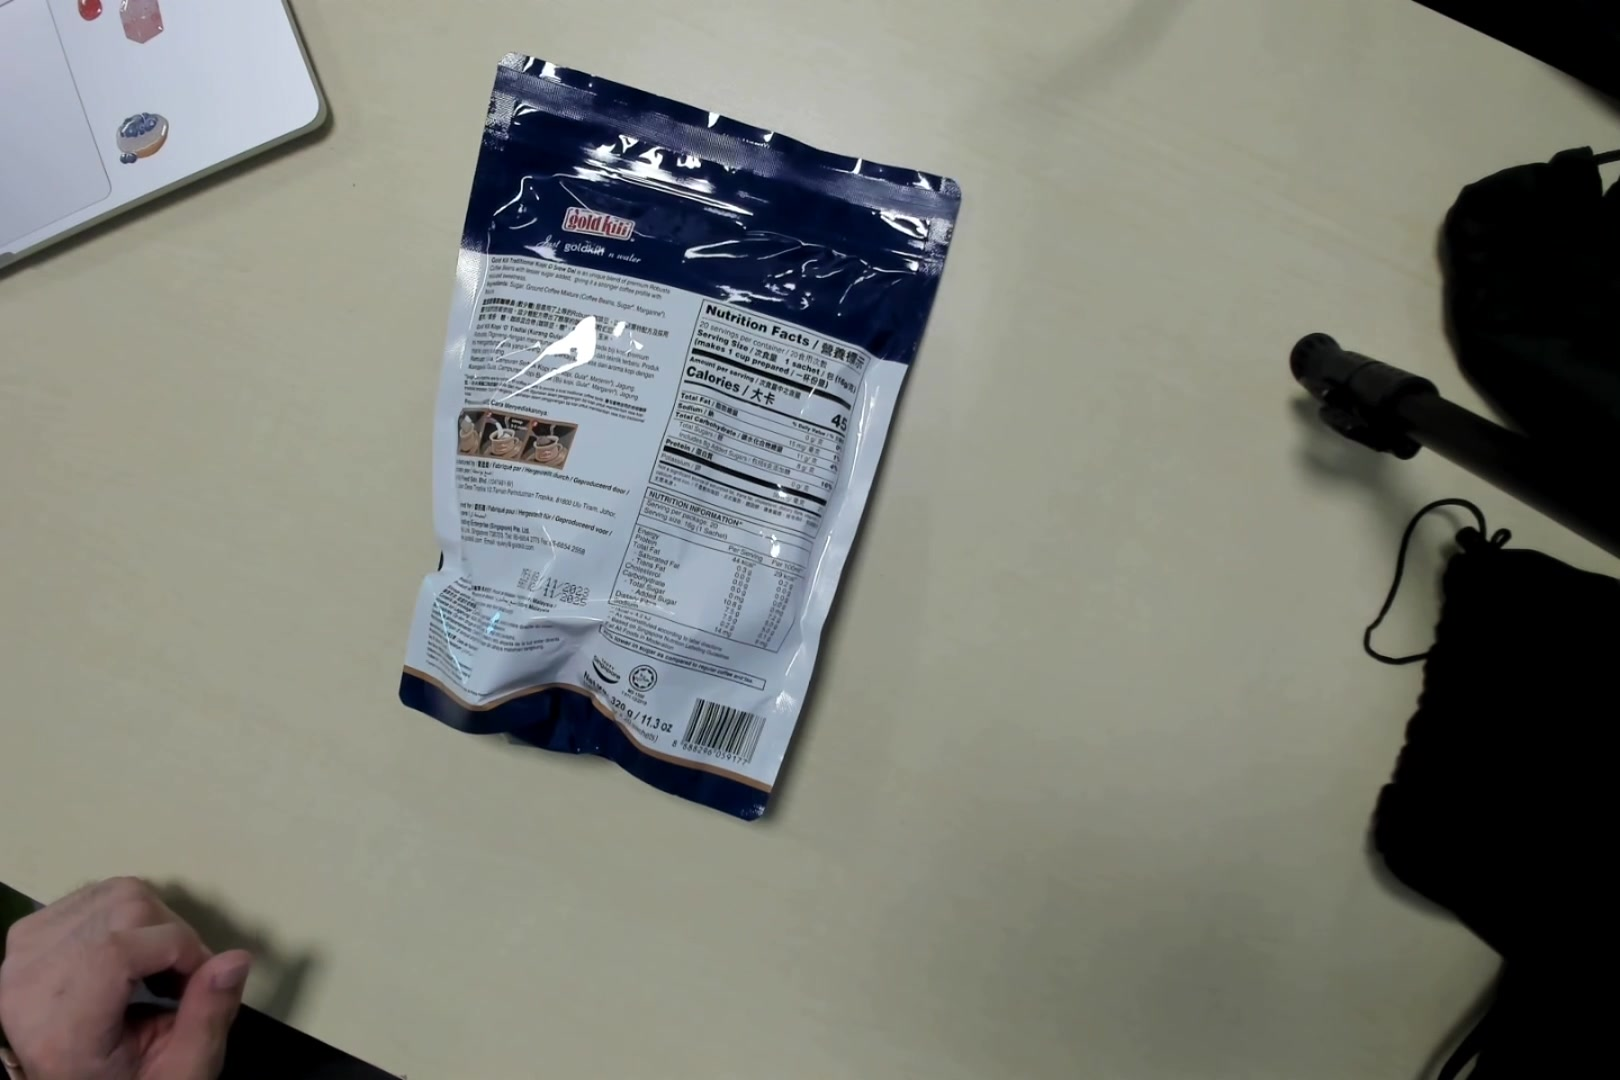Coffee(Powder)_300-399g_Halal_Healthy: (419, 47, 925, 818)
